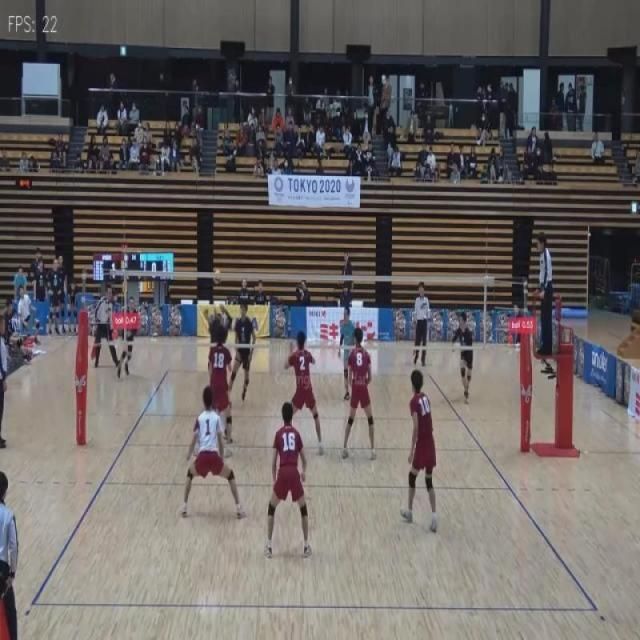volleyball: (212, 269, 222, 285)
